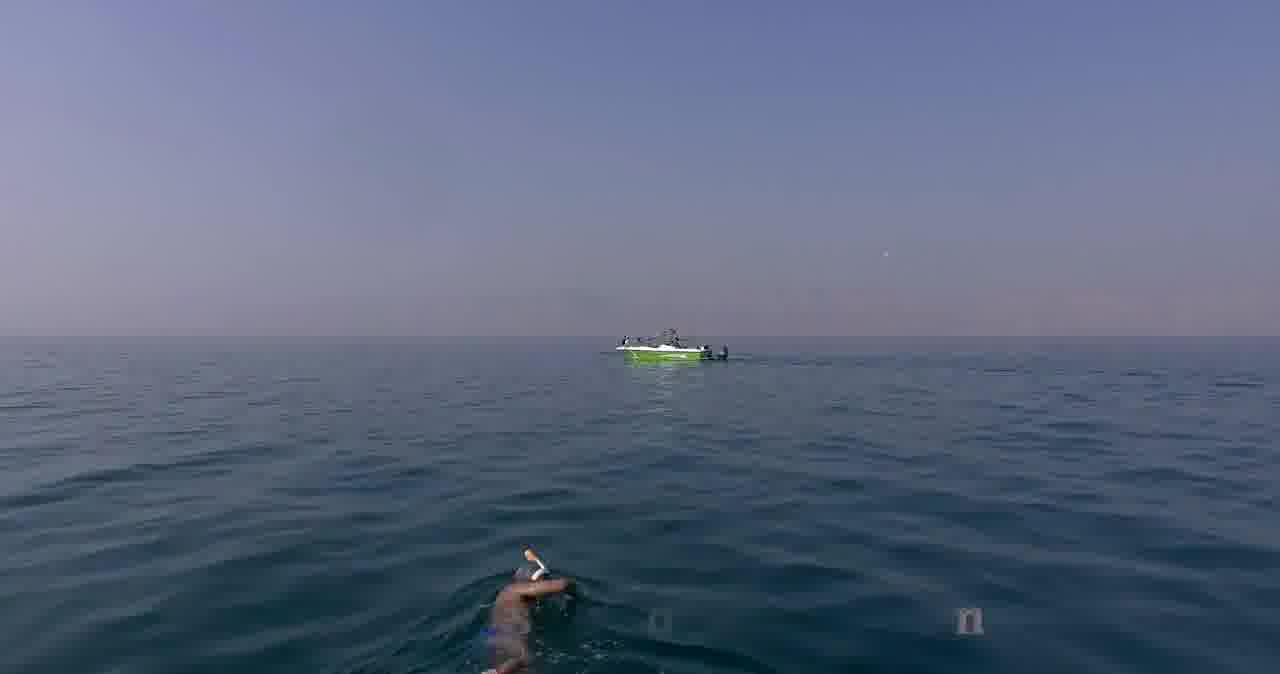human: (488, 546, 581, 634)
